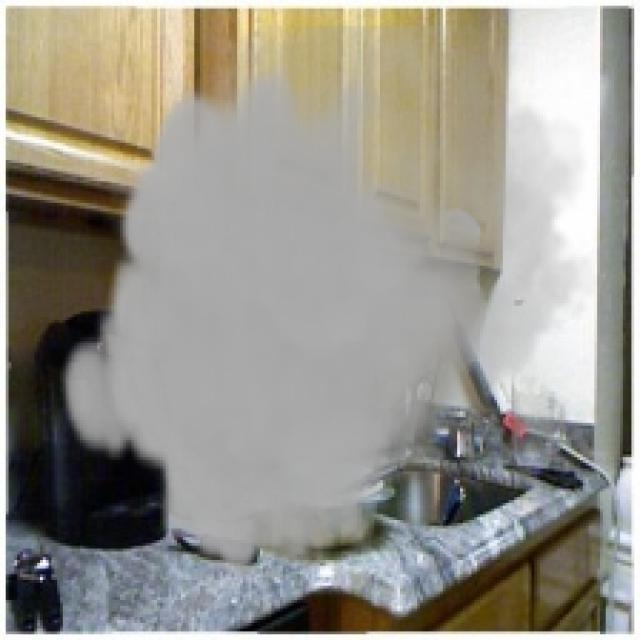Smoke: (57, 26, 603, 580)
